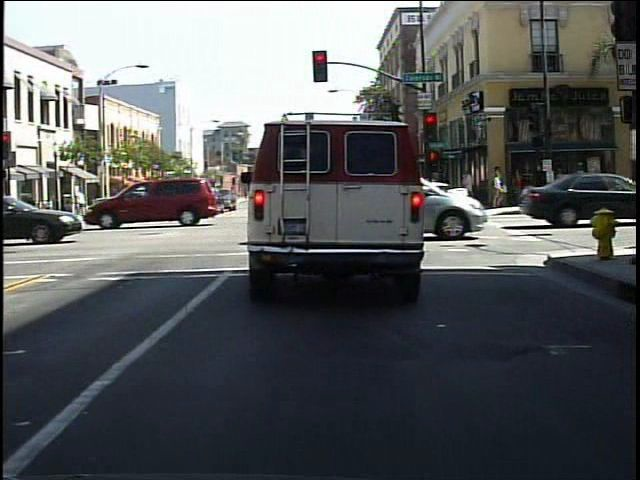person: (529, 159, 549, 208), (510, 165, 530, 209)
